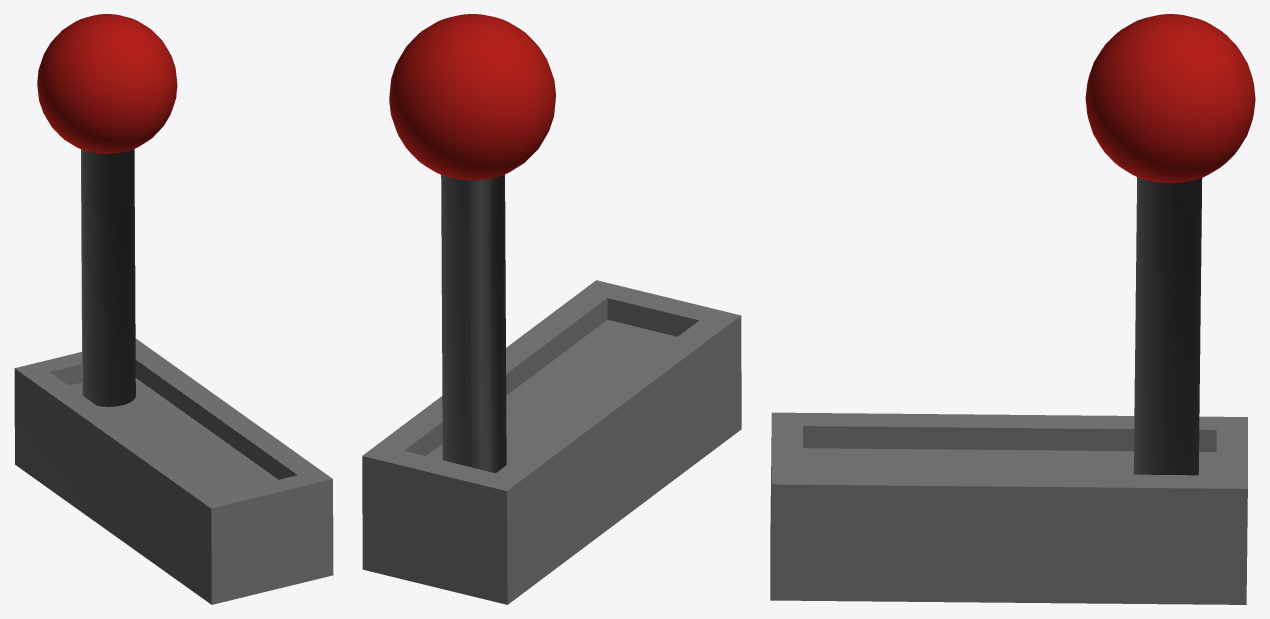
The model's file is Handle.glb.
3 views of the same model, side by side, from view 1: azimuth 30°, elevation 25°; view 2: azimuth 150°, elevation 25°; view 3: azimuth 270°, elevation 25° (orthographic). The views are drawn at different scales.
Parts seen in each view (by area): view 1: Cube, Sphere; view 2: Cube, Sphere; view 3: Cube, Sphere.
Boxes of the visible parts, x1,y1,x2,y2 form: Cube: [14, 338, 333, 604]; Sphere: [37, 14, 177, 406]; Cube: [362, 280, 741, 604]; Sphere: [389, 14, 555, 473]; Cube: [770, 412, 1247, 604]; Sphere: [1085, 14, 1255, 475].
Size of the model in its own units: 2 by 7.1 by 5.71.
